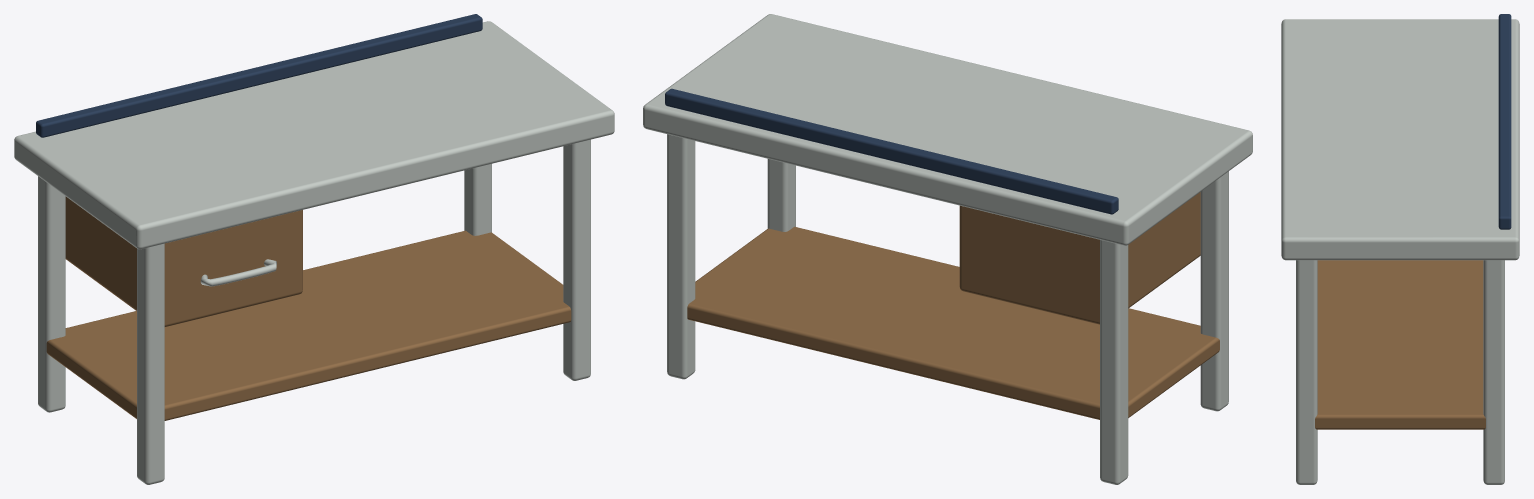
The model's file is planetarium-and-optical-observatory-observing-desk-e279d98a__31863.glb.
3 views of the same model, side by side, from view 1: azimuth 30°, elevation 25°; view 2: azimuth 150°, elevation 25°; view 3: azimuth 270°, elevation 25° (orthographic). The views are drawn at different scales.
Visible parts, largest first — view 1: observing-desk; view 2: observing-desk; view 3: observing-desk.
Boxes of the visible parts, x1=… form: observing-desk: x1=14, y1=14, x2=614, y2=484; observing-desk: x1=643, y1=14, x2=1252, y2=484; observing-desk: x1=1281, y1=14, x2=1519, y2=484.
Bounding box in the file's own units: 1.45 × 0.82 × 0.6599.
